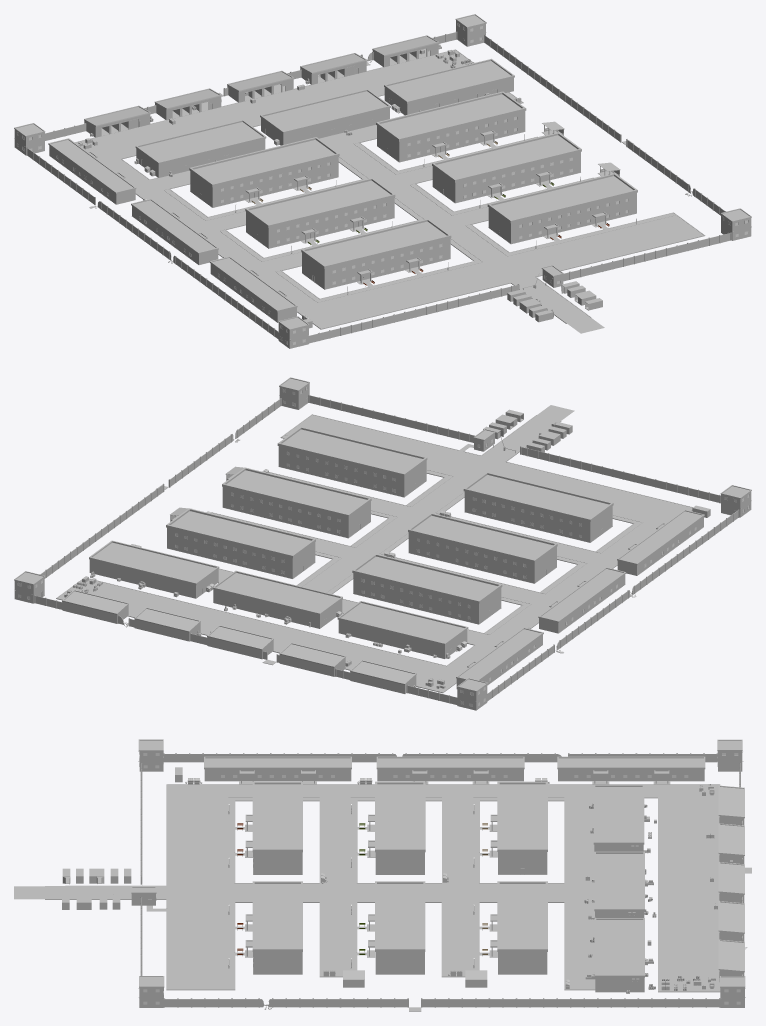
File: LaboratoryHause.fbx
3 views of the same model, one above another, from view 1: azimuth 30°, elevation 25°; view 2: azimuth 150°, elevation 25°; view 3: azimuth 270°, elevation 25° (orthographic). The views are drawn at different scales.
Parts seen in each view (by area): view 1: Parking.002, LabFence02.003, Bordur.001, LabRoof3.003, LabRoof3, LabRoof3.002, LabRoof3.005, LabRoof3.004, LabRoof3.006, LabWallInterior005b.001, LabWallInterior005b.003, LabWallInterior005b.004 (+25 smaller); view 2: Parking.002, LabFence02.003, Bordur.001, LabRoof3.005, LabRoof3.003, LabRoof3, LabRoof3.002, LabRoof3.004, LabRoof3.006, LabWallInterior005b.003, LabWallInterior005b.005, LabWallInterior005b.002 (+26 smaller); view 3: Parking.002, Bordur.001, LabFence02.003, LabRoof3.004, LabRoof3, LabRoof3.002, LabRoof3.003, LabRoof3.005, LabRoof3.006, LabRoof3.009, LabRoof3.010, LabRoof3.011 (+22 smaller).
Boxes of the visible parts, x1,y1,x2,y2 form: Parking.002: (75, 50, 703, 333); LabFence02.003: (26, 31, 731, 343); Bordur.001: (75, 49, 705, 329); LabRoof3.003: (487, 173, 637, 223); LabRoof3: (301, 218, 451, 268); LabRoof3.002: (376, 91, 526, 141); LabRoof3.005: (189, 137, 339, 186); LabRoof3.004: (245, 177, 395, 227); LabRoof3.006: (432, 132, 581, 182); LabWallInterior005b.001: (377, 111, 525, 162); LabWallInterior005b.003: (246, 197, 394, 248); LabWallInterior005b.004: (190, 156, 338, 207); Parking.002: (58, 405, 692, 691); LabFence02.003: (34, 394, 739, 704); Bordur.001: (56, 414, 692, 693); LabRoof3.005: (352, 553, 502, 603); LabRoof3.003: (277, 426, 427, 476); LabRoof3: (463, 472, 613, 521); LabRoof3.002: (166, 508, 315, 558); LabRoof3.004: (408, 513, 557, 562); LabRoof3.006: (222, 467, 371, 517); LabWallInterior005b.003: (408, 532, 556, 583); LabWallInterior005b.005: (222, 487, 370, 537); LabWallInterior005b.002: (278, 446, 426, 497); Parking.002: (14, 785, 719, 991); Bordur.001: (45, 784, 720, 992); LabFence02.003: (140, 753, 751, 1011); LabRoof3.004: (375, 781, 425, 852); LabRoof3: (252, 781, 302, 852); LabRoof3.002: (497, 881, 547, 951); LabRoof3.003: (252, 881, 302, 951); LabRoof3.005: (497, 781, 547, 851); LabRoof3.006: (375, 881, 425, 951); LabRoof3.009: (593, 785, 644, 844); LabRoof3.010: (594, 851, 644, 911); LabRoof3.011: (594, 918, 644, 977).
Size of the model in its own units: 19620 by 948 by 24132.
